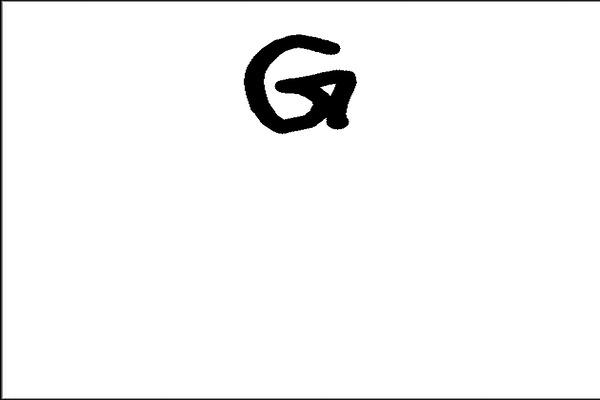G: (239, 29, 360, 138)
